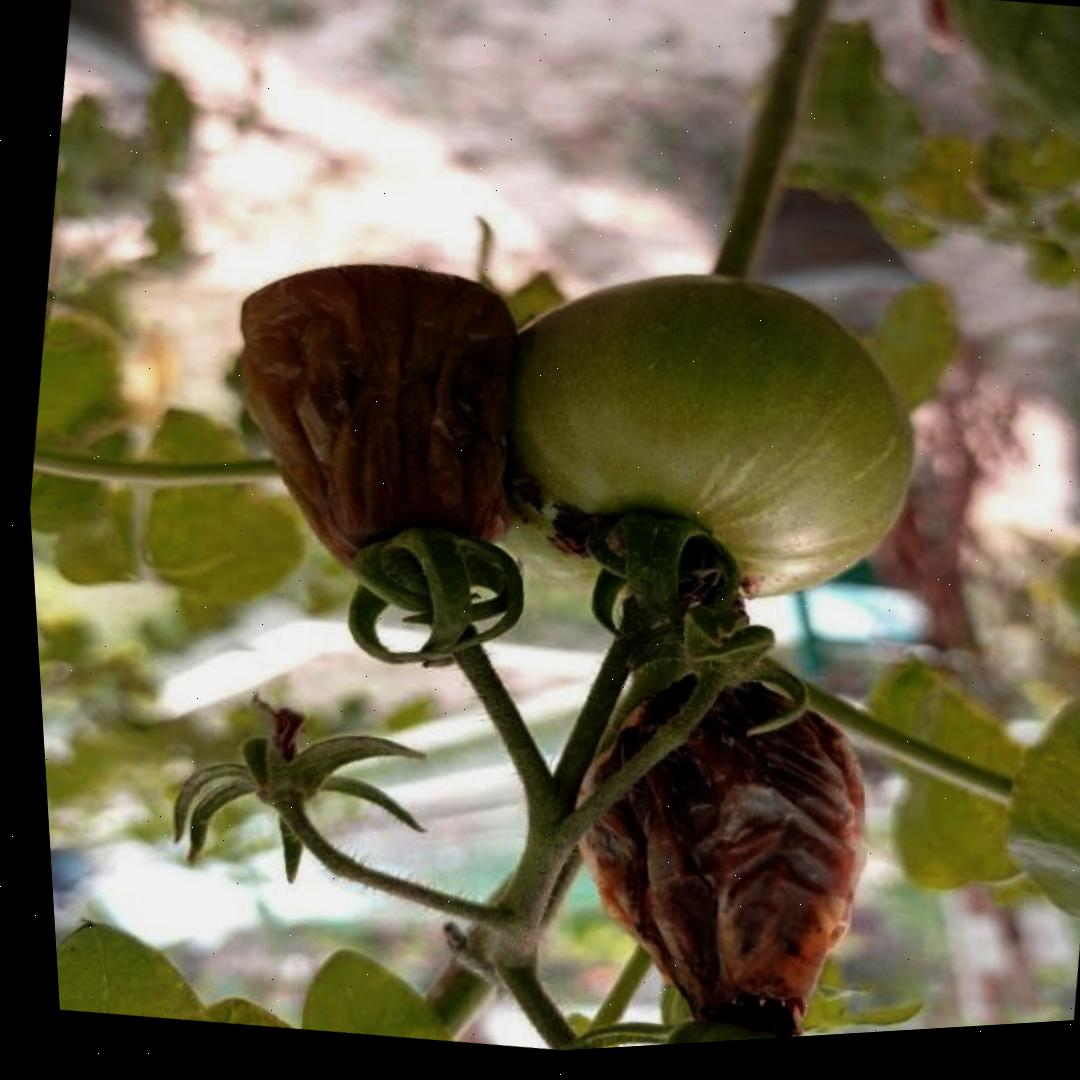mentah: (432, 227, 945, 653)
